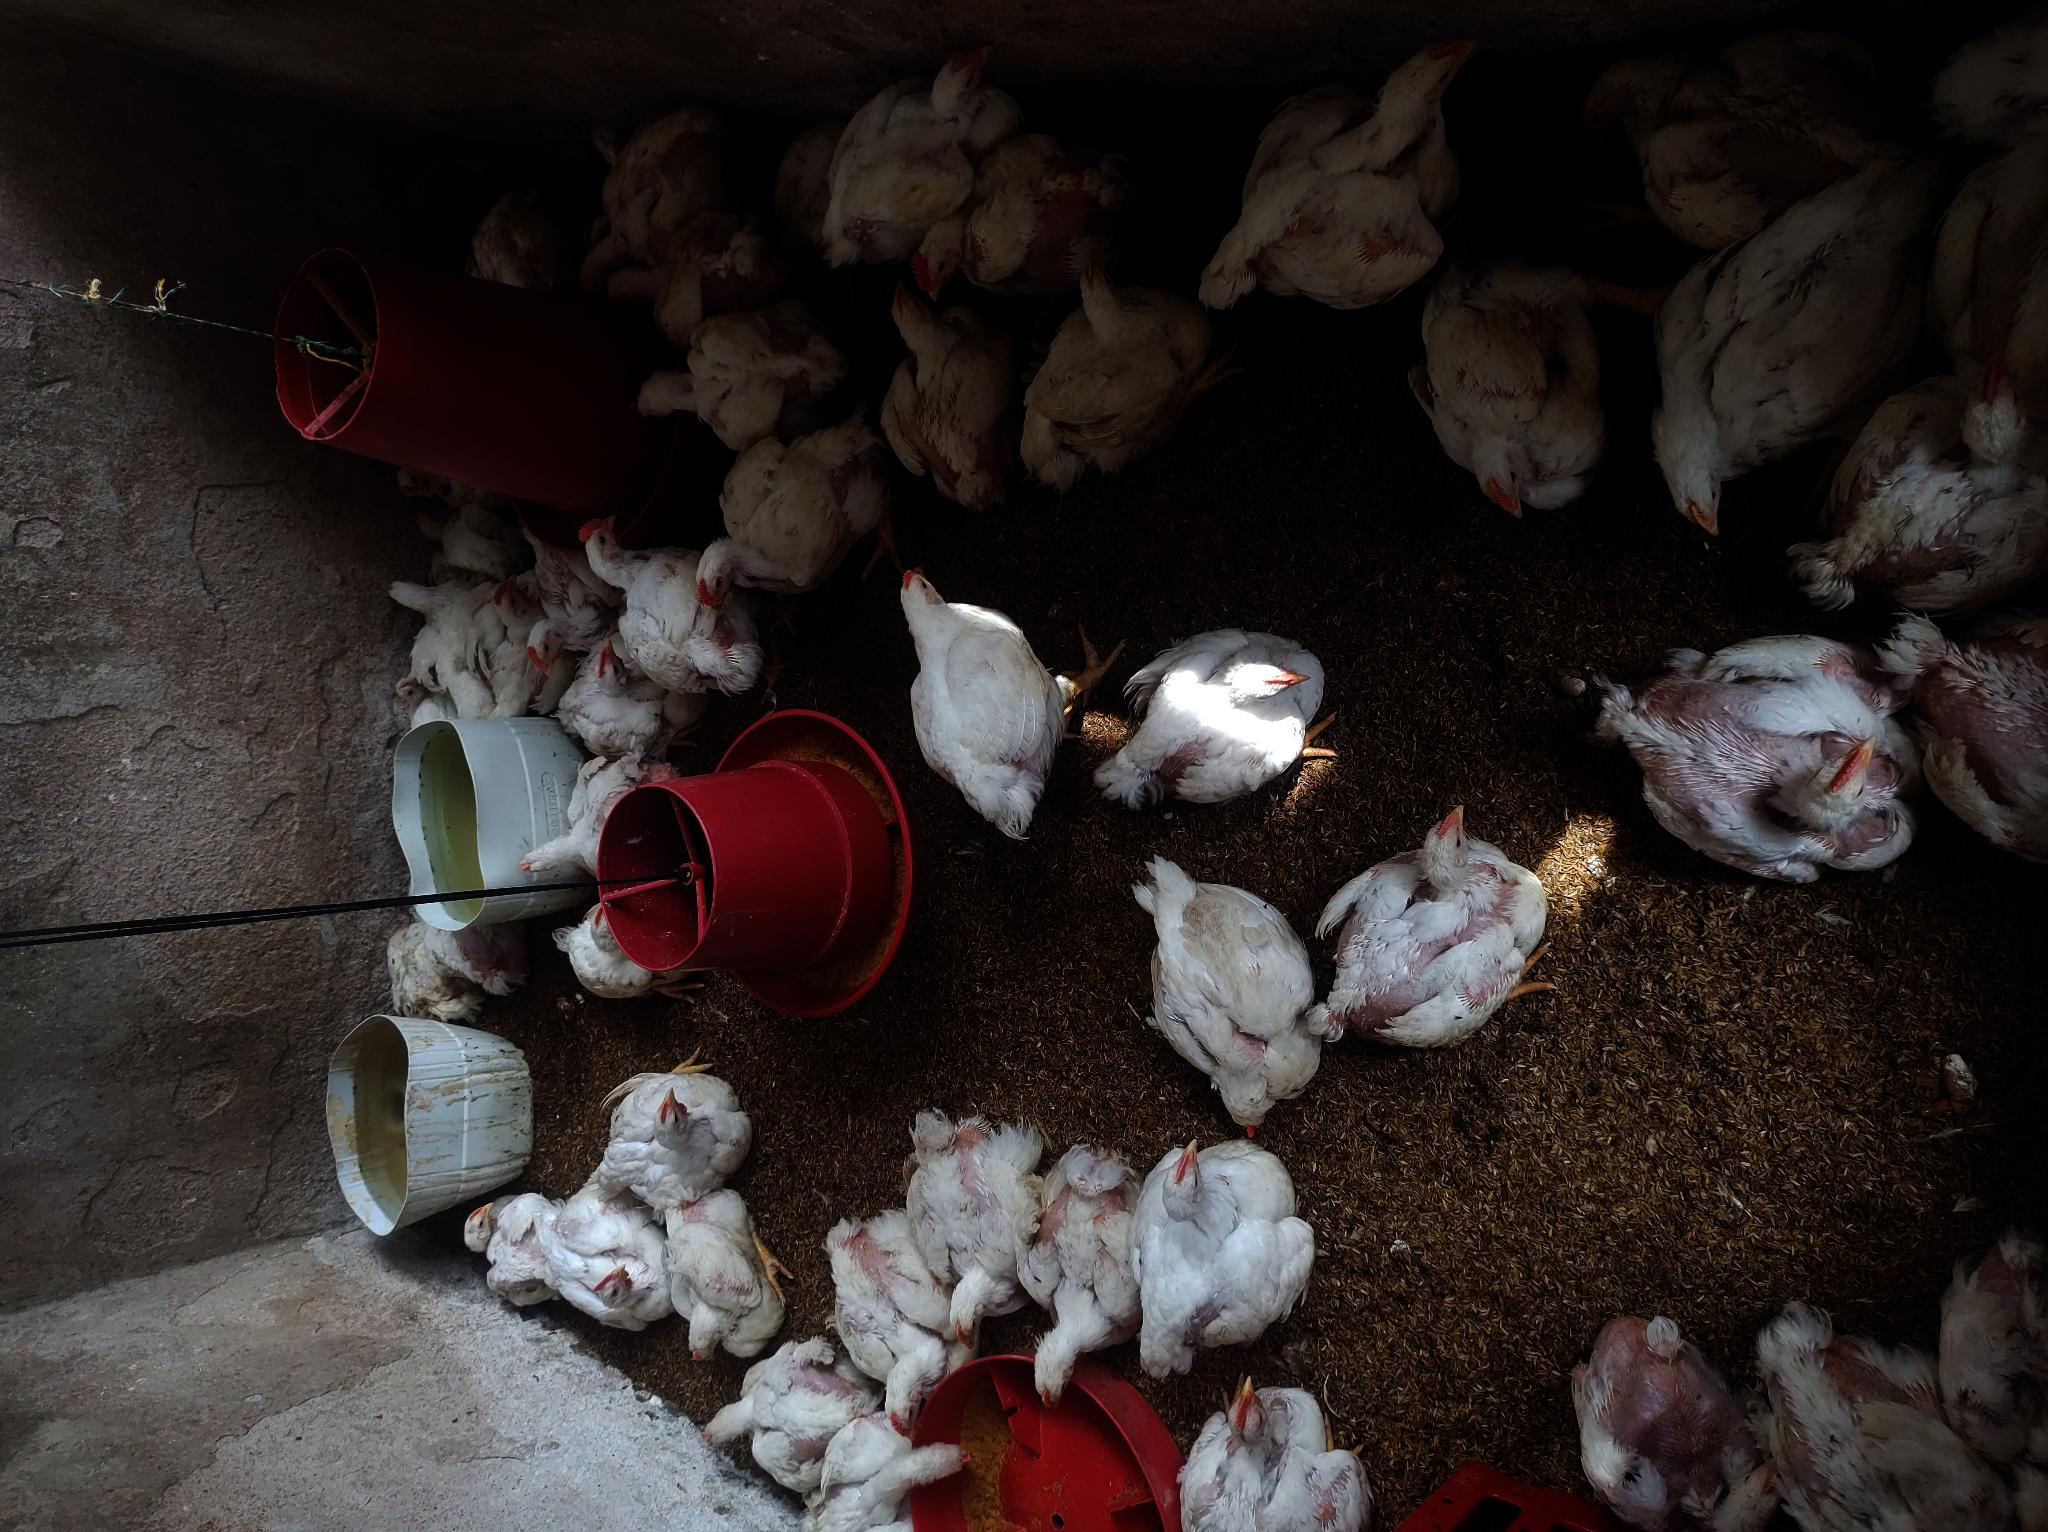Pollos: (1655, 164, 1940, 525), (1573, 628, 1903, 888), (1202, 31, 1475, 325), (1723, 1283, 2008, 1532), (848, 550, 1070, 850), (1316, 797, 1564, 1056), (1810, 360, 2046, 612), (1589, 29, 1889, 225), (1419, 233, 1623, 520), (1128, 858, 1330, 1139), (1097, 623, 1347, 817), (1012, 270, 1240, 480), (1541, 1279, 1733, 1519), (816, 40, 1023, 261), (1894, 579, 2048, 866), (909, 129, 1142, 309), (1145, 1130, 1322, 1357), (1155, 1366, 1387, 1532), (866, 282, 1031, 502), (701, 417, 886, 603), (573, 512, 759, 689), (1022, 1143, 1149, 1398), (1927, 1199, 2048, 1468), (822, 1204, 980, 1408), (1935, 122, 2048, 397), (906, 1094, 1031, 1334), (632, 304, 837, 439), (634, 1183, 785, 1347), (510, 748, 677, 887), (602, 1056, 779, 1186), (685, 1329, 859, 1455), (594, 80, 734, 227), (800, 1411, 977, 1526), (376, 900, 504, 1044), (594, 229, 787, 315), (566, 1186, 668, 1344), (463, 1180, 578, 1316), (447, 185, 561, 315), (558, 626, 664, 763), (512, 520, 603, 668), (537, 908, 658, 1001), (450, 591, 528, 723), (380, 563, 468, 636), (385, 668, 467, 737), (385, 446, 468, 500), (496, 571, 571, 612)
